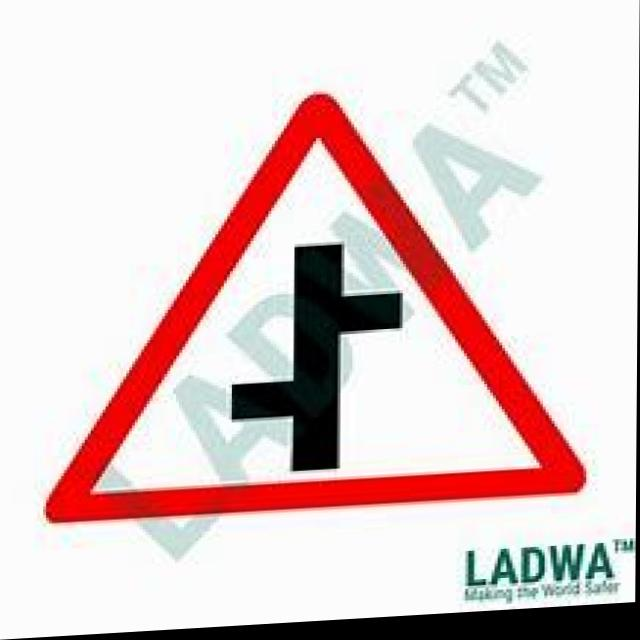STAGGERED_INTERSECTION: (37, 75, 621, 525)
